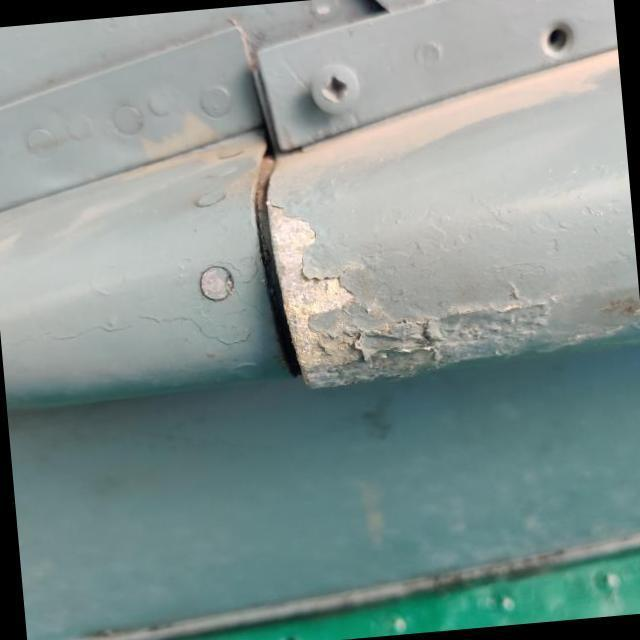Fastener Damage: (526, 5, 596, 79)
